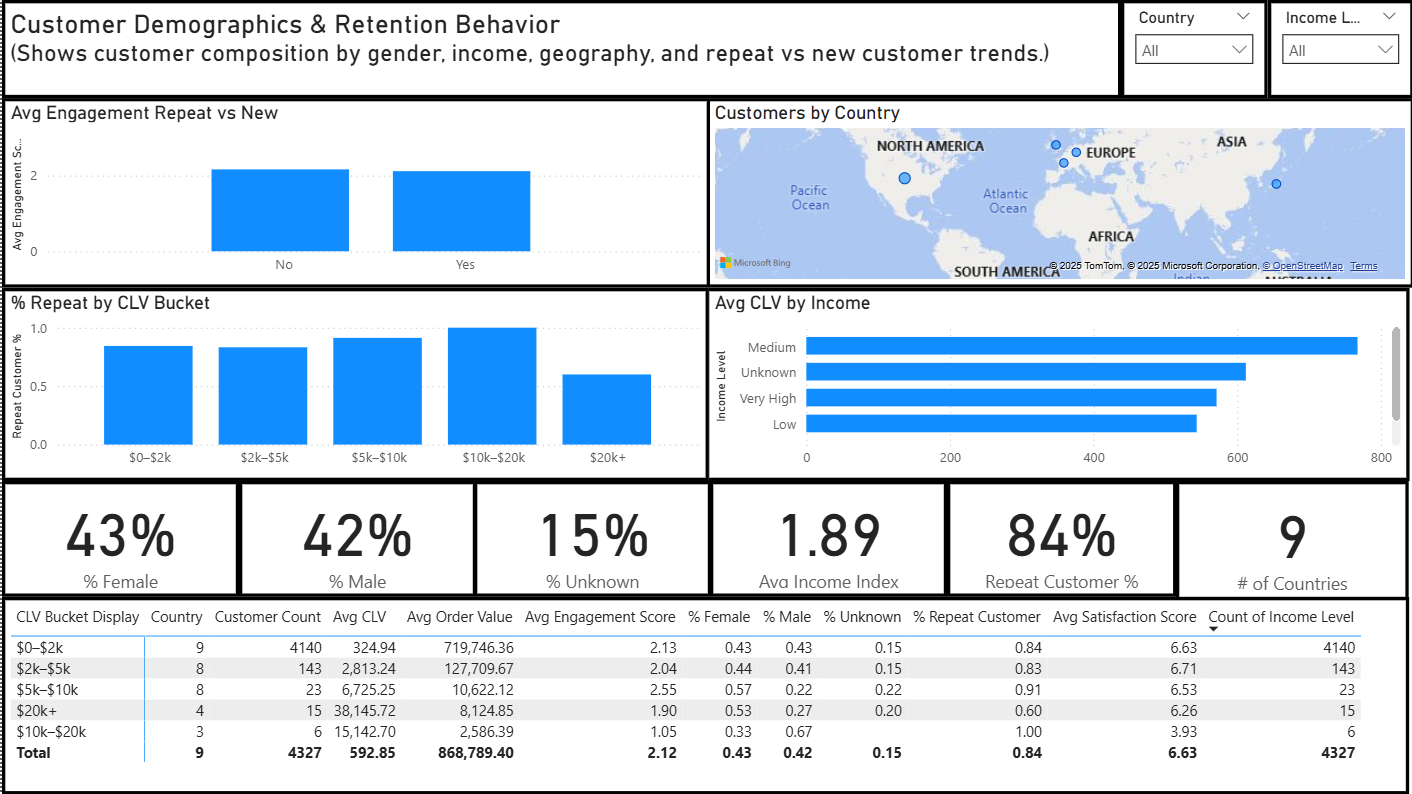

This screenshot's page, from the dashboard's own definition file:
{"tool":"powerbi","page":{"name":"Demographic & Retention","canvas":[1280,720],"ordinal":2},"visuals":[{"type":"card","fields":{"Values":["Measures_Table.% Female"]},"box":[0,436,215,105],"z":0},{"type":"card","fields":{"Values":["Measures_Table.% Male"]},"box":[215,436,215,105],"z":1000},{"type":"card","fields":{"Values":["Measures_Table.% Unknown"]},"box":[428,436,215,105],"z":2000},{"type":"card","fields":{"Values":["Measures_Table.Avg Income Index2"]},"box":[642,436,215,105],"z":3000},{"type":"card","fields":{"Values":["Measures_Table.% Repeat Customer True"]},"box":[857,436,208,105],"z":4000},{"type":"card","fields":{"Values":["Measures_Table.# of Countries"]},"box":[1065,436,211,108],"z":5000},{"type":"clusteredBarChart","title":"Avg CLV by Income","fields":{"Y":["Avg(F_public_customer_value.customer_lifetime_value)"],"Category":["DimCustomer.income_level_text"]},"box":[638,261,638,175],"z":6000},{"type":"map","title":"Customers by Country","fields":{"Category":["DimCustomer.Country"],"Size":["Sum(DimCustomer.Customers)"]},"box":[638,89,642,172],"z":7000},{"type":"clusteredColumnChart","title":"% Repeat by CLV Bucket","fields":{"Y":["Measures_Table.Repeat Customer %"],"Category":["DimCustomer.CLV Bucket Display"]},"box":[0,261,641,175],"z":8000},{"type":"clusteredColumnChart","title":"Avg Engagement Repeat vs New","fields":{"Category":["DimCustomer.Repeat Customer Y/N"],"Y":["Measures_Table.Avg Engagement Score"]},"box":[0,89,642,172],"z":9000},{"type":"pivotTable","fields":{"Values":["Count(DimCustomer.Country)","Measures_Table.Customers","Measures_Table.Avg CLV","Sum(F_public_customer_value.average_order_value)","Measures_Table.Avg Engagement Score","Measures_Table.% Female","Measures_Table.% Male","Measures_Table.% Unknown","Measures_Table.Repeat Customer %","Measures_Table.Avg Satisfaction Score","CountNonNull(DimCustomer.Income_Level_numeric)"],"Rows":["DimCustomer.CLV Bucket Display"]},"box":[0,541,1276,179],"z":10000},{"type":"textbox","box":[0,0,1015,89],"z":11000},{"type":"slicer","fields":{"Values":["DimCustomer.Country"]},"box":[1015,0,133,89],"z":12000},{"type":"slicer","fields":{"Values":["DimCustomer.income_level_text"]},"box":[1148,0,132,89],"z":13000}]}

Visuals, with their boxes in screenshot pixels (x1, y1, x2, y2), scaled from the page's 1280x720 canvas onto the 1412x794 screenshot:
card - Measures_Table.% Female: crop(0, 481, 237, 597)
card - Measures_Table.% Male: crop(237, 481, 474, 597)
card - Measures_Table.% Unknown: crop(472, 481, 709, 597)
card - Measures_Table.Avg Income Index2: crop(708, 481, 945, 597)
card - Measures_Table.% Repeat Customer True: crop(945, 481, 1175, 597)
card - Measures_Table.# of Countries: crop(1175, 481, 1408, 600)
"Avg CLV by Income" clusteredBarChart: crop(704, 288, 1408, 481)
"Customers by Country" map: crop(704, 98, 1411, 288)
"% Repeat by CLV Bucket" clusteredColumnChart: crop(0, 288, 707, 481)
"Avg Engagement Repeat vs New" clusteredColumnChart: crop(0, 98, 708, 288)
pivotTable - Count(DimCustomer.Country) x Measures_Table.Customers: crop(0, 597, 1408, 793)
textbox: crop(0, 0, 1120, 98)
slicer - DimCustomer.Country: crop(1120, 0, 1266, 98)
slicer - DimCustomer.income_level_text: crop(1266, 0, 1411, 98)
